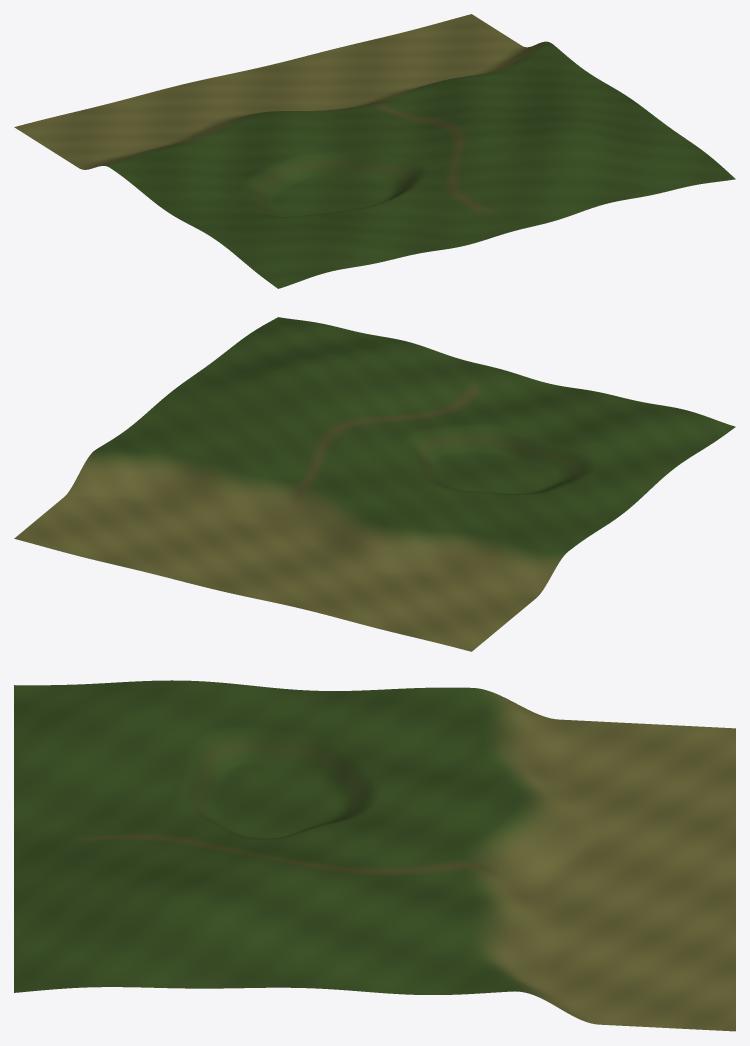
The model's file is SM_Terrain.fbx.
3 views of the same model, one above another, from view 1: azimuth 30°, elevation 25°; view 2: azimuth 150°, elevation 25°; view 3: azimuth 270°, elevation 25° (orthographic). The views are drawn at different scales.
Visible parts, largest first — view 1: SM_Terrain; view 2: SM_Terrain; view 3: SM_Terrain.
Boxes of the visible parts, bbox=[...] form: SM_Terrain: bbox=[14, 14, 735, 288]; SM_Terrain: bbox=[14, 317, 735, 651]; SM_Terrain: bbox=[14, 680, 735, 1031].
Bounding box in the file's own units: 10000 × 10000 × 1040.
